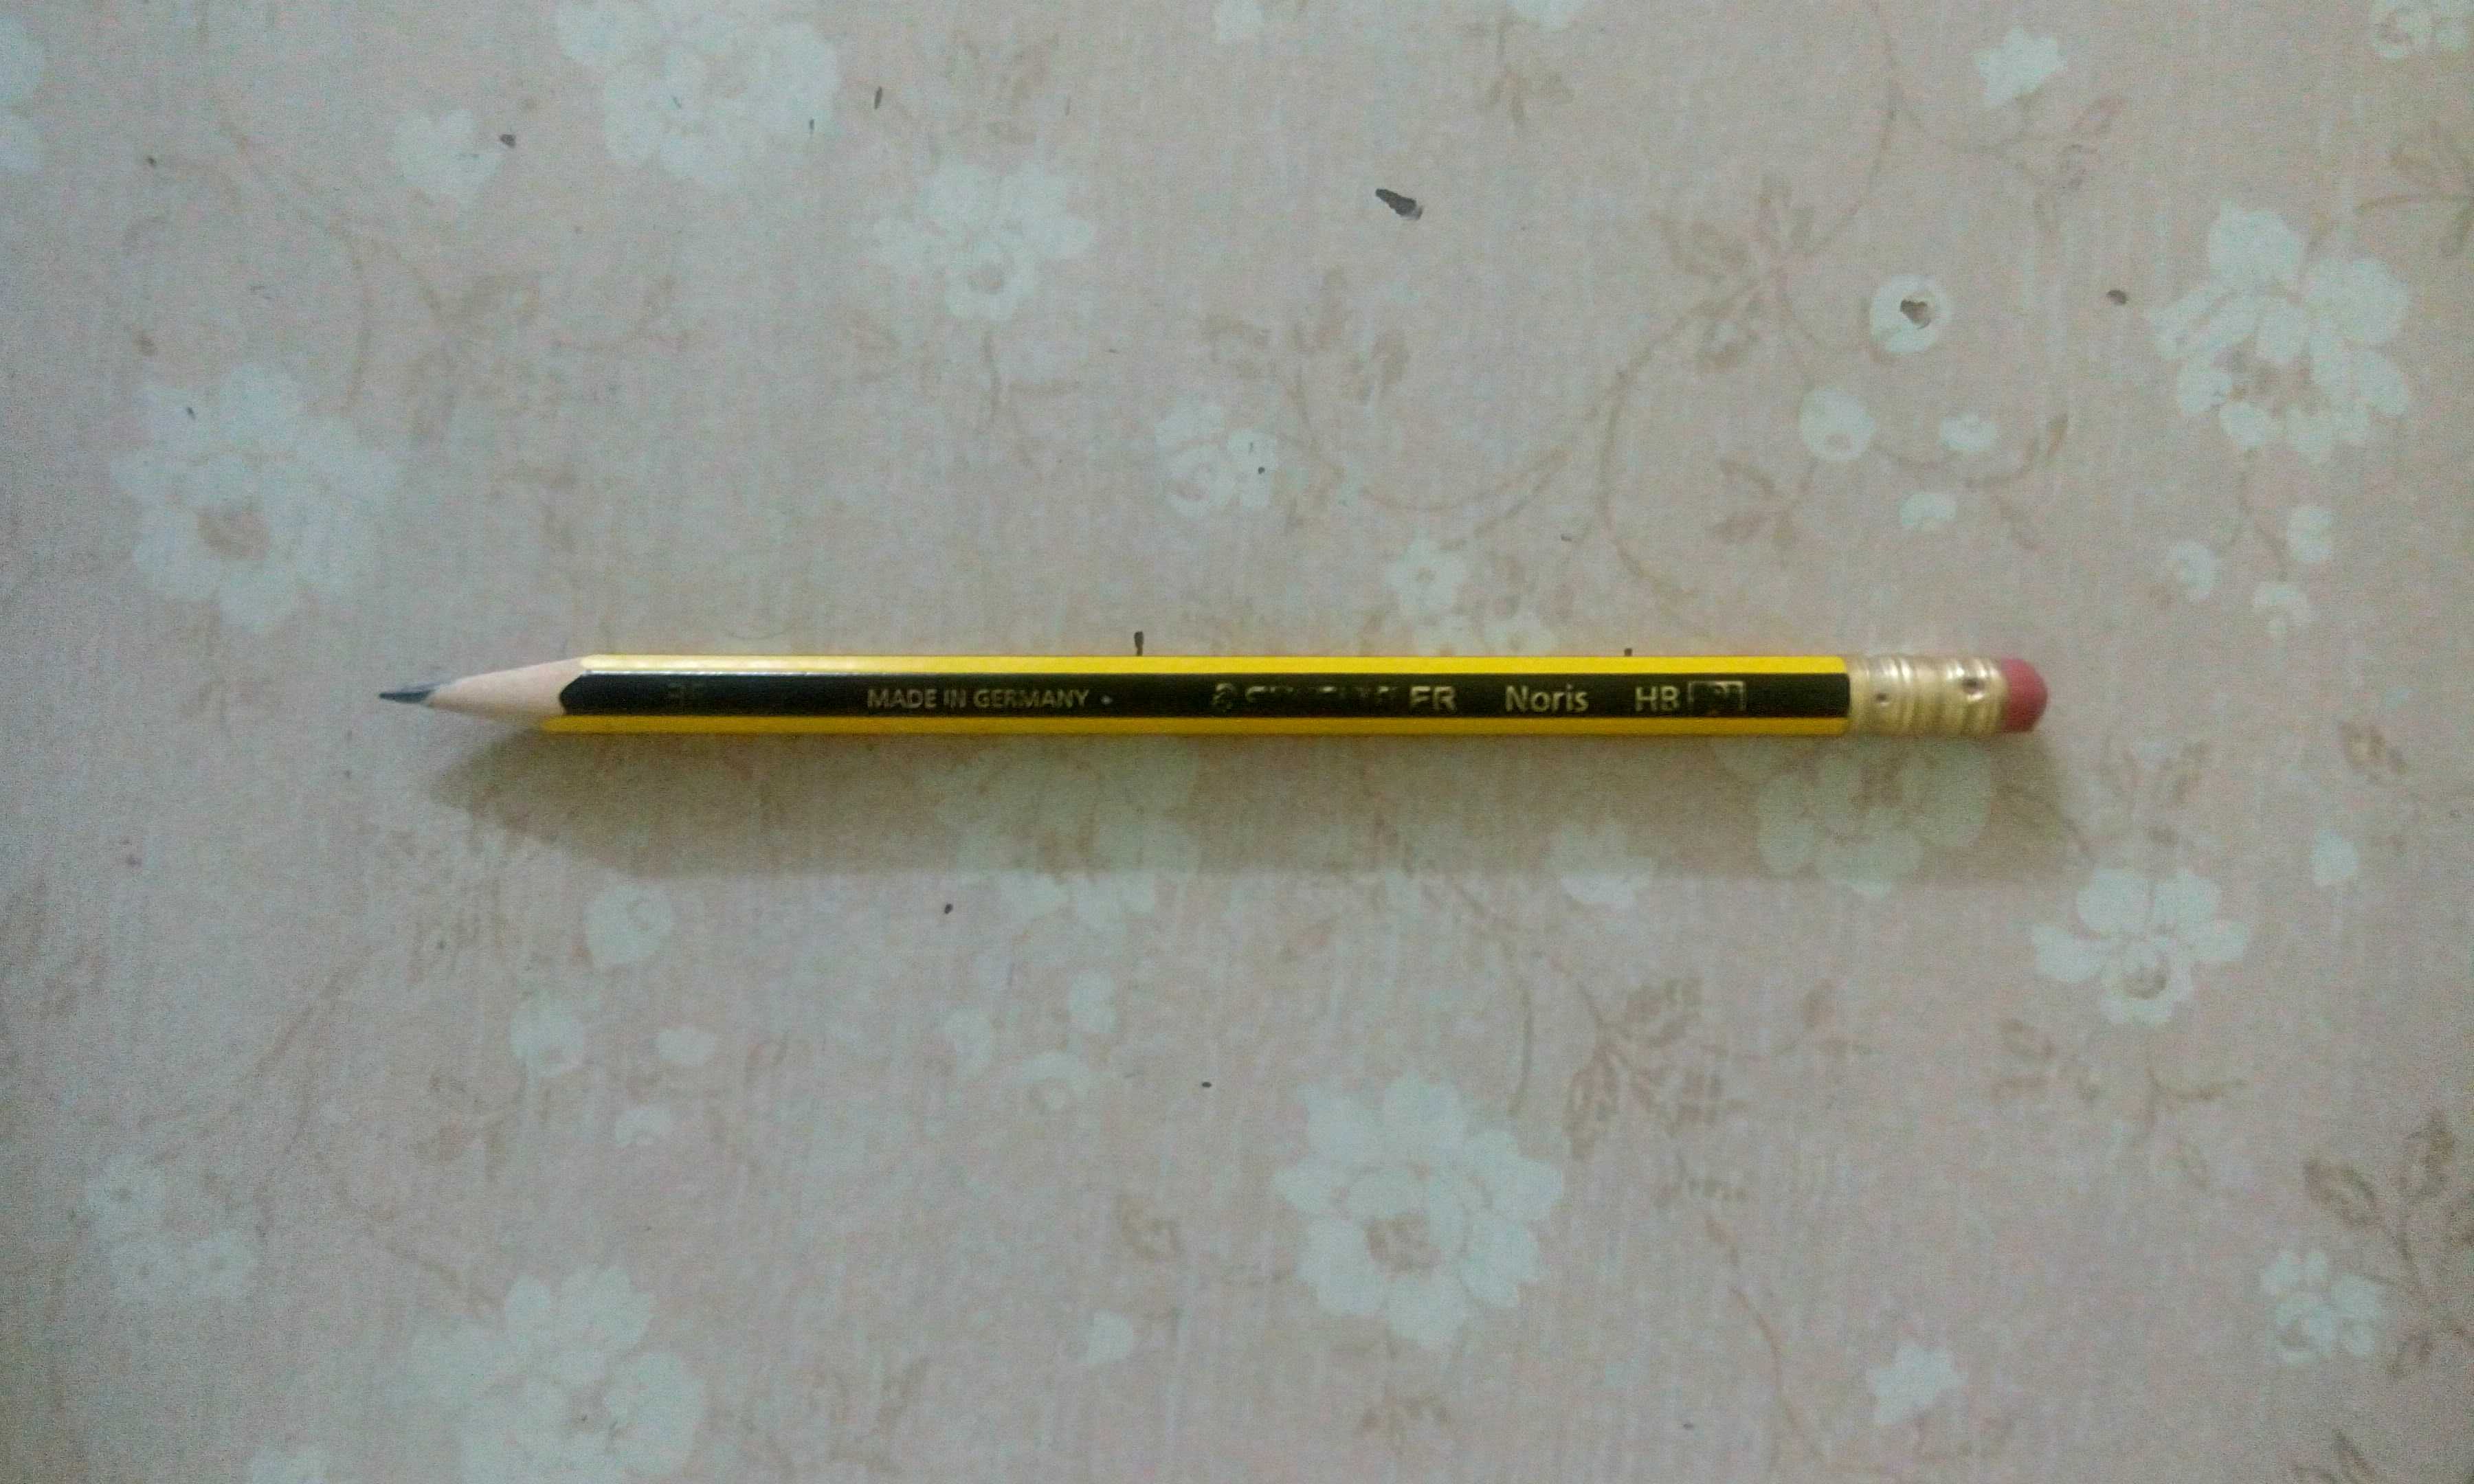pen_tip: (343, 590, 698, 809)
